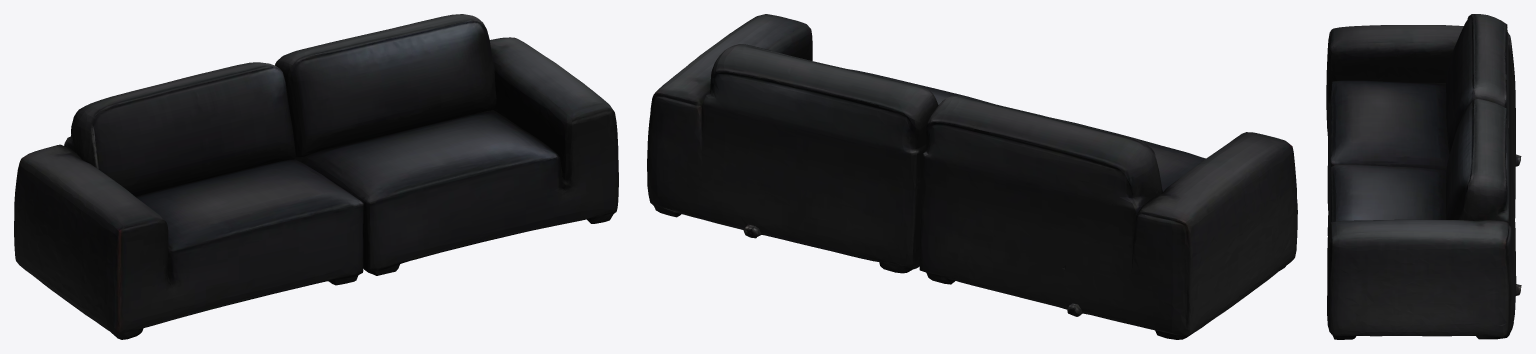
Rendered from ast_e68deb64781e.glb.
3 views of the same model, side by side, from view 1: azimuth 30°, elevation 25°; view 2: azimuth 150°, elevation 25°; view 3: azimuth 270°, elevation 25° (orthographic). The views are drawn at different scales.
Parts seen in each view (by area): view 1: geometry_0; view 2: geometry_0; view 3: geometry_0.
Part boxes in pixels (x1,y1,x2,y2): geometry_0: [14, 14, 618, 339]; geometry_0: [647, 14, 1297, 339]; geometry_0: [1326, 14, 1521, 339].
Bounding box in the file's own units: 0.9965 × 0.2988 × 0.3701.
Materials: 1 (1 with a texture image).
